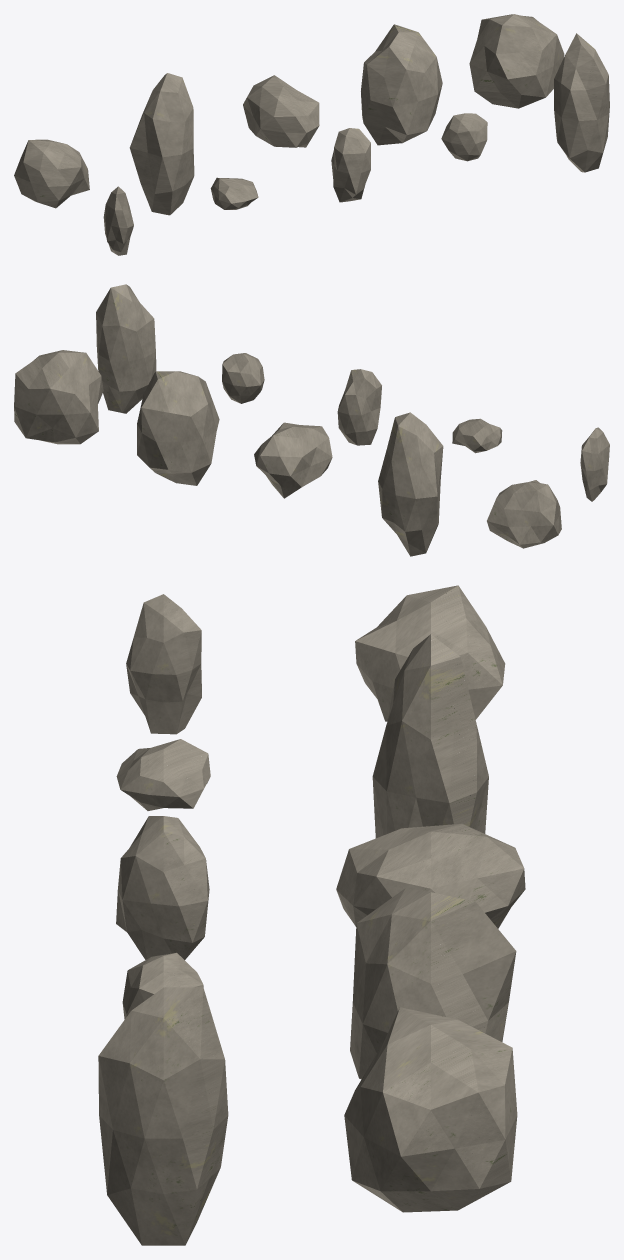
File: HO_VFX_RockShards.fbx
3 renders of one model, top to bottom at view 1: azimuth 30°, elevation 25°; view 2: azimuth 150°, elevation 25°; view 3: azimuth 270°, elevation 25°, orthographic. The views are drawn at different scales.
Visible parts, largest first — view 1: HO_VFX_RockShard_09, HO_VFX_RockShard_10, HO_VFX_RockShard_07, HO_VFX_RockShard_05, HO_VFX_RockShard_08, HO_VFX_RockShard_06, HO_VFX_RockShard_03, HO_VFX_RockShard_04, HO_VFX_RockShard_01, HO_VFX_RockShard_02; view 2: HO_VFX_RockShard_09, HO_VFX_RockShard_10, HO_VFX_RockShard_07, HO_VFX_RockShard_05, HO_VFX_RockShard_08, HO_VFX_RockShard_06, HO_VFX_RockShard_03, HO_VFX_RockShard_04, HO_VFX_RockShard_01, HO_VFX_RockShard_02; view 3: HO_VFX_RockShard_10, HO_VFX_RockShard_05, HO_VFX_RockShard_09, HO_VFX_RockShard_07, HO_VFX_RockShard_08, HO_VFX_RockShard_03, HO_VFX_RockShard_06, HO_VFX_RockShard_01, HO_VFX_RockShard_02, HO_VFX_RockShard_04.
Part boxes in pixels (bbox=[...]): HO_VFX_RockShard_09: bbox=[361, 24, 442, 145]; HO_VFX_RockShard_10: bbox=[469, 14, 564, 108]; HO_VFX_RockShard_07: bbox=[129, 73, 194, 215]; HO_VFX_RockShard_05: bbox=[554, 33, 609, 172]; HO_VFX_RockShard_08: bbox=[243, 75, 319, 147]; HO_VFX_RockShard_06: bbox=[14, 139, 89, 208]; HO_VFX_RockShard_03: bbox=[331, 128, 370, 202]; HO_VFX_RockShard_04: bbox=[441, 113, 487, 161]; HO_VFX_RockShard_01: bbox=[103, 186, 133, 255]; HO_VFX_RockShard_02: bbox=[210, 177, 258, 209]; HO_VFX_RockShard_09: bbox=[137, 371, 219, 485]; HO_VFX_RockShard_10: bbox=[14, 350, 103, 444]; HO_VFX_RockShard_07: bbox=[378, 412, 443, 556]; HO_VFX_RockShard_05: bbox=[96, 284, 156, 413]; HO_VFX_RockShard_08: bbox=[254, 422, 332, 498]; HO_VFX_RockShard_06: bbox=[487, 480, 561, 548]; HO_VFX_RockShard_03: bbox=[337, 369, 381, 445]; HO_VFX_RockShard_04: bbox=[222, 353, 264, 403]; HO_VFX_RockShard_01: bbox=[580, 427, 609, 501]; HO_VFX_RockShard_02: bbox=[452, 418, 502, 453]; HO_VFX_RockShard_10: bbox=[344, 1007, 517, 1212]; HO_VFX_RockShard_05: bbox=[98, 987, 228, 1245]; HO_VFX_RockShard_09: bbox=[350, 888, 516, 1079]; HO_VFX_RockShard_07: bbox=[372, 634, 488, 838]; HO_VFX_RockShard_08: bbox=[336, 823, 525, 928]; HO_VFX_RockShard_03: bbox=[116, 816, 209, 959]; HO_VFX_RockShard_06: bbox=[355, 585, 505, 721]; HO_VFX_RockShard_01: bbox=[126, 594, 201, 734]; HO_VFX_RockShard_02: bbox=[116, 739, 210, 810]; HO_VFX_RockShard_04: bbox=[122, 952, 203, 1019].
Size of the model in its own units: 18.57 by 4.7 by 6.4.
